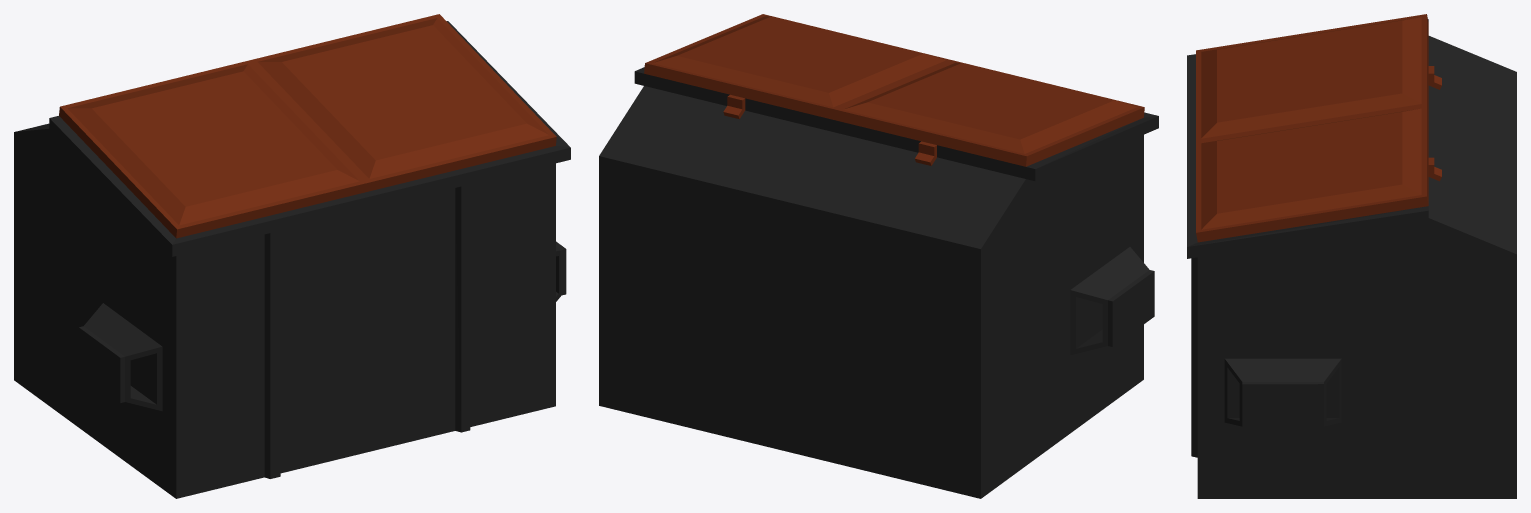
The model's file is Mesh_Dumpster.fbx.
3 renders of one model, left to right at view 1: azimuth 30°, elevation 25°; view 2: azimuth 150°, elevation 25°; view 3: azimuth 270°, elevation 25°, orthographic. The views are drawn at different scales.
Parts seen in each view (by area): view 1: Box002; view 2: Box002; view 3: Box002.
Boxes of the visible parts, x1,y1,x2,y2 form: Box002: [14, 14, 570, 498]; Box002: [599, 14, 1158, 498]; Box002: [1187, 14, 1516, 498].
Size of the model in its own units: 94 by 62.41 by 61.14.
